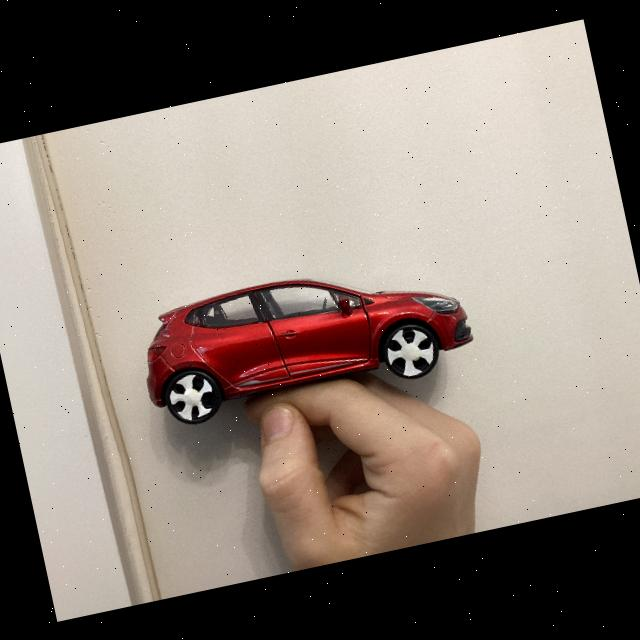Yanlis_Jant: (382, 322, 439, 381), (166, 370, 220, 424)
